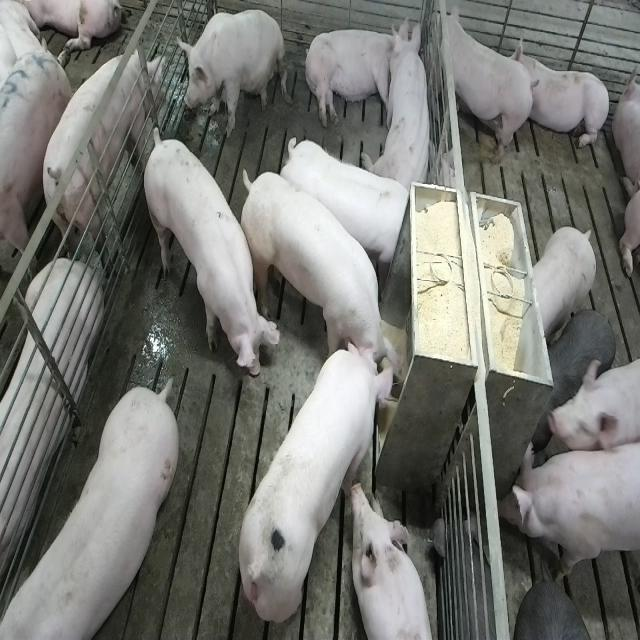Feeding: (236, 338, 400, 625), (238, 166, 406, 387)
Lateral_lying: (302, 19, 405, 129)
Sitting: (174, 8, 286, 139)
Standing: (0, 383, 176, 639), (142, 128, 280, 384), (42, 50, 171, 269), (504, 441, 639, 597), (278, 132, 412, 278), (438, 3, 538, 168), (0, 51, 68, 281), (550, 353, 640, 452), (542, 308, 616, 418), (531, 225, 597, 343), (518, 569, 600, 637)
Sternal_lying: (0, 262, 101, 611), (350, 483, 435, 640), (518, 39, 612, 155), (374, 22, 434, 193)
